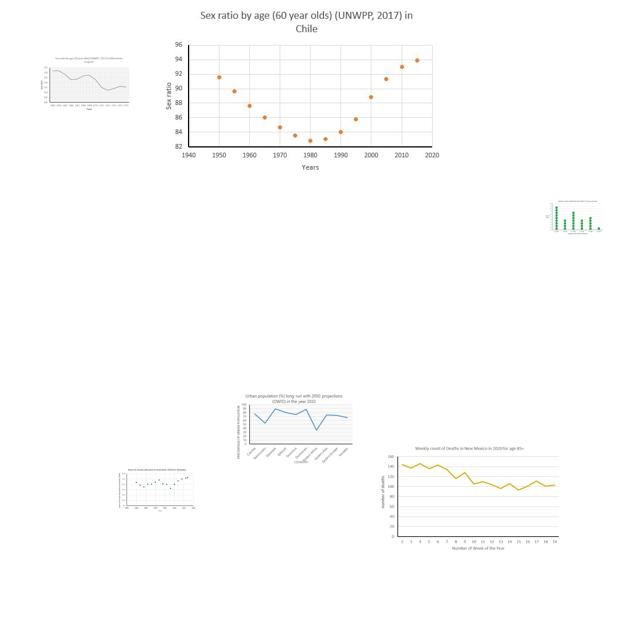Graph: (160, 6, 442, 176), (376, 443, 563, 556), (234, 392, 354, 464), (38, 56, 131, 112), (117, 467, 197, 514), (544, 199, 604, 236)
